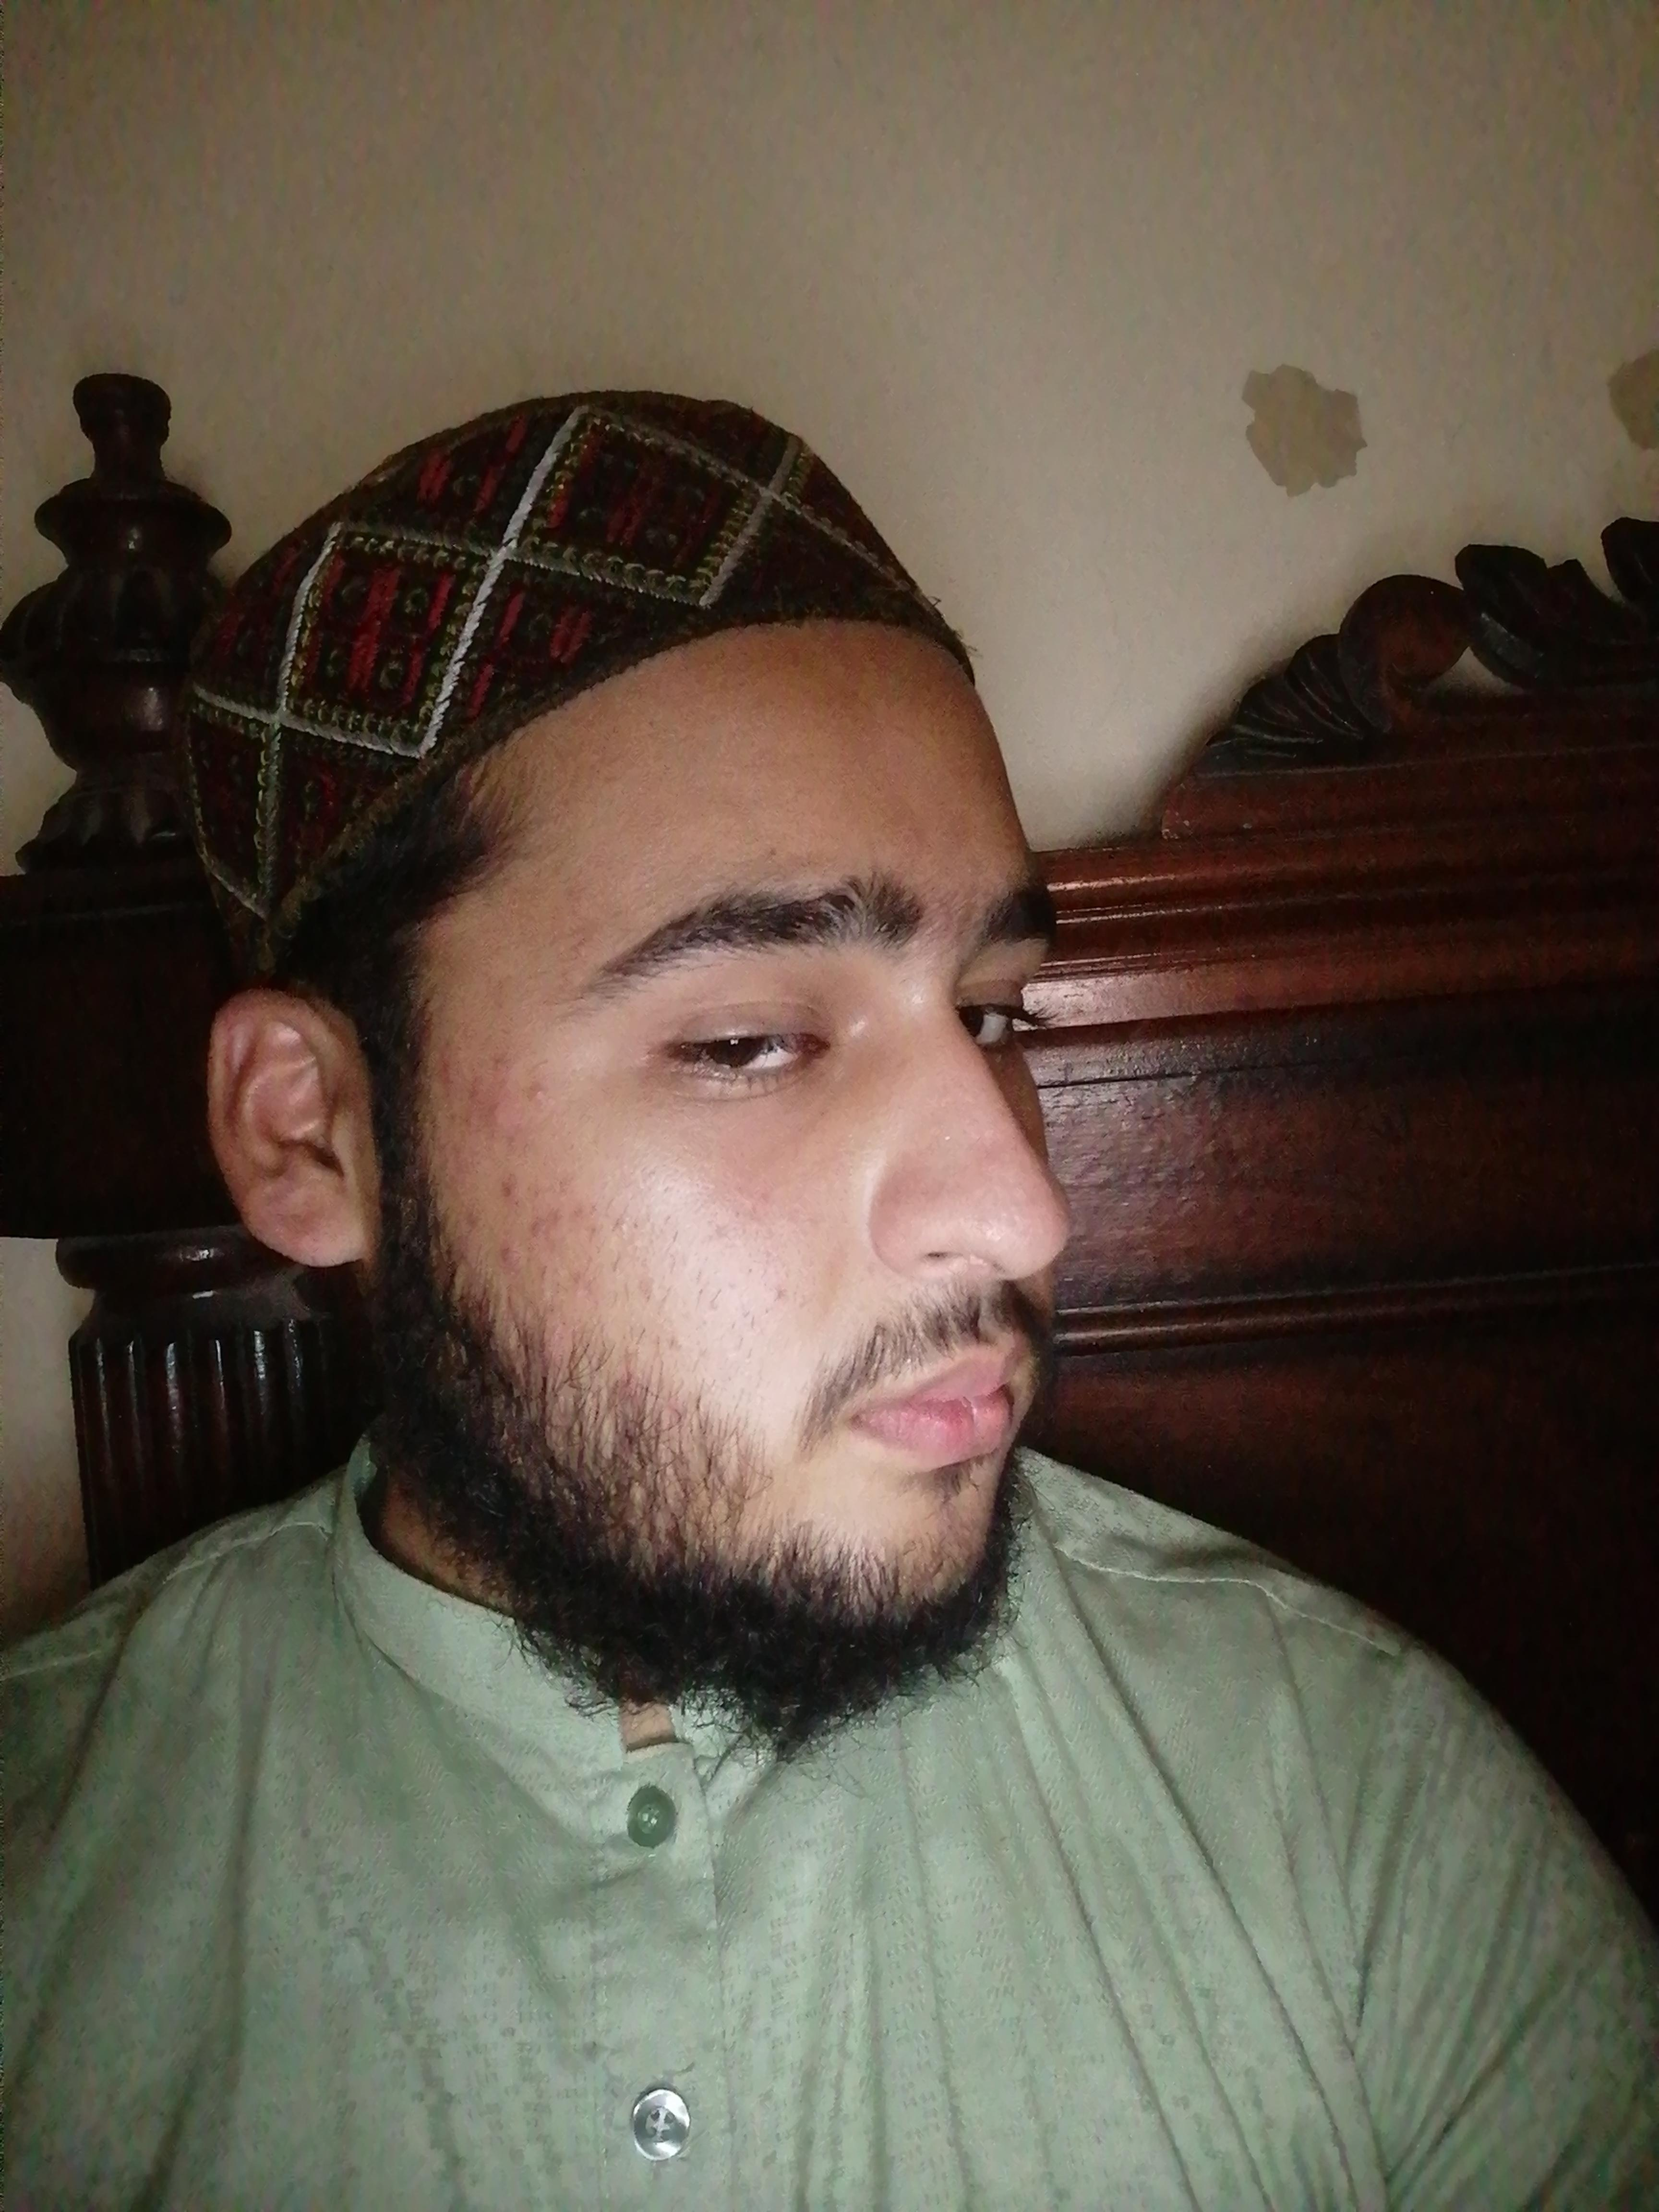Acne: (521, 1197, 605, 1242), (465, 1062, 516, 1127), (490, 1240, 523, 1275), (493, 1165, 523, 1202), (566, 1263, 592, 1294), (525, 1076, 549, 1109), (622, 1362, 641, 1397), (769, 1282, 791, 1308), (436, 1049, 453, 1082), (460, 1205, 481, 1230)
Blackheads: (711, 1181, 777, 1252)
